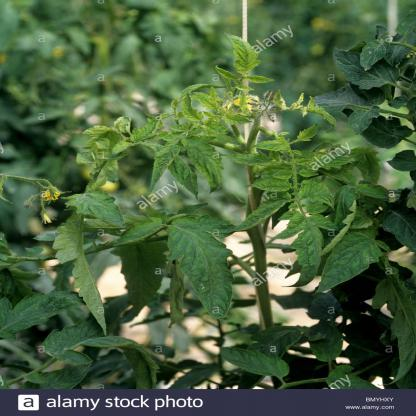tomato leaf yellow virus: (243, 133, 323, 285), (39, 213, 133, 335), (167, 219, 237, 321), (151, 125, 186, 199)
